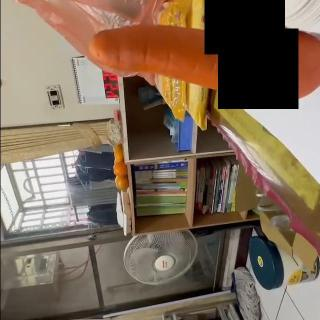carrot: (89, 26, 320, 102)
